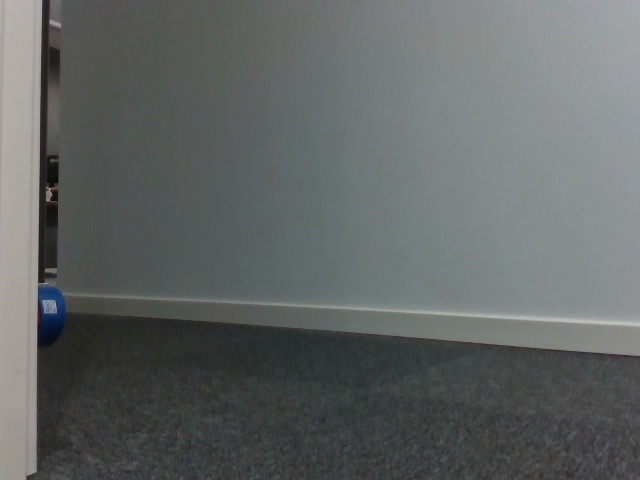alfa: (32, 284, 69, 347)
